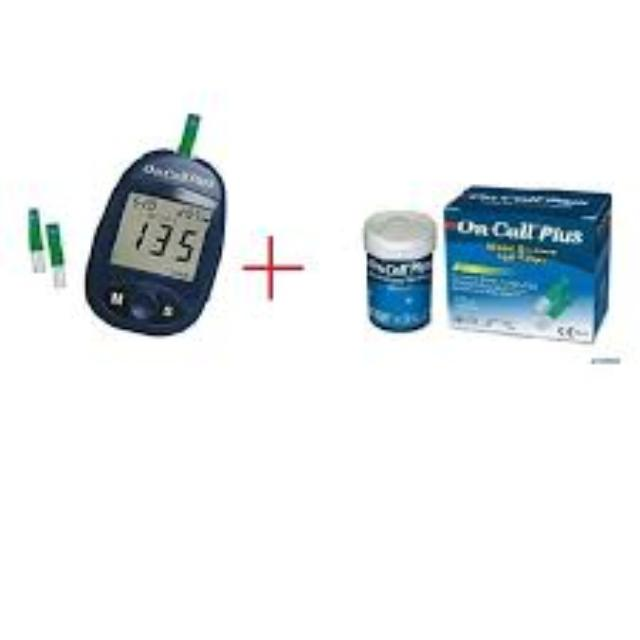Glucose-Meter: (86, 115, 224, 333)
